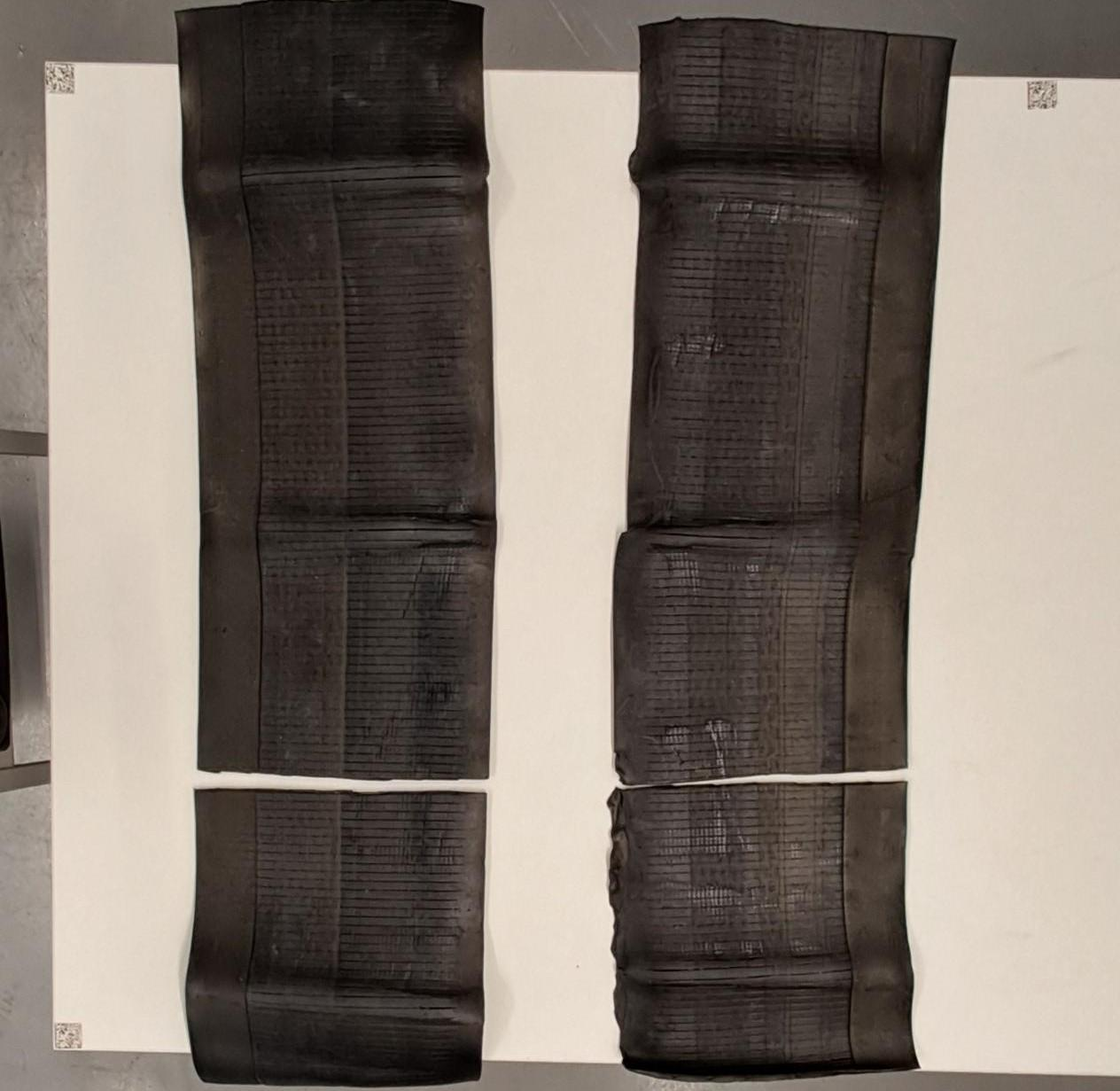cut_edge: (194, 769, 488, 791), (616, 768, 906, 789)
